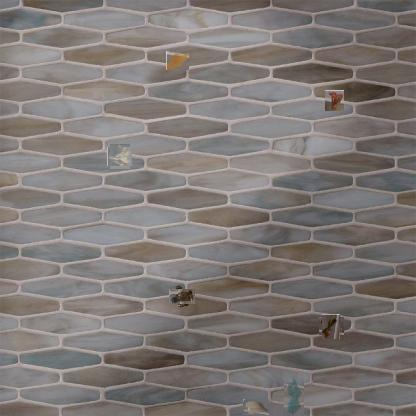dirty: (109, 145, 131, 168), (171, 285, 193, 307), (321, 316, 342, 337), (324, 90, 344, 111), (243, 399, 269, 415)
liquid: (284, 378, 304, 416), (166, 50, 189, 70)
